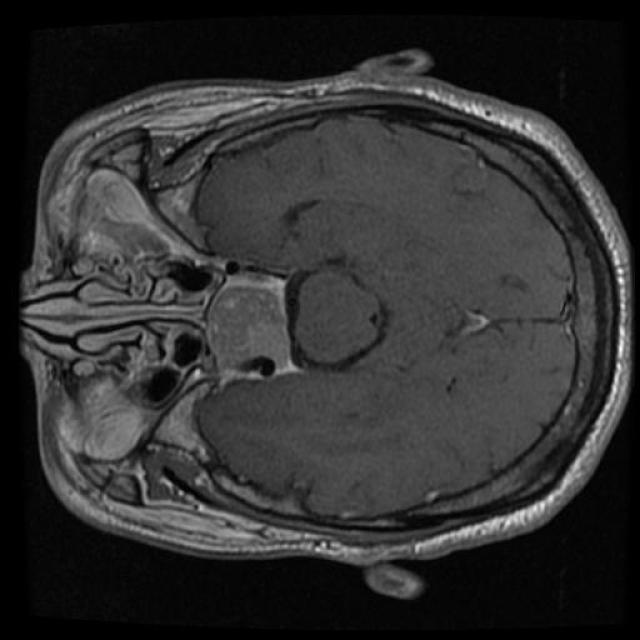Pituitary: (205, 261, 302, 385)
